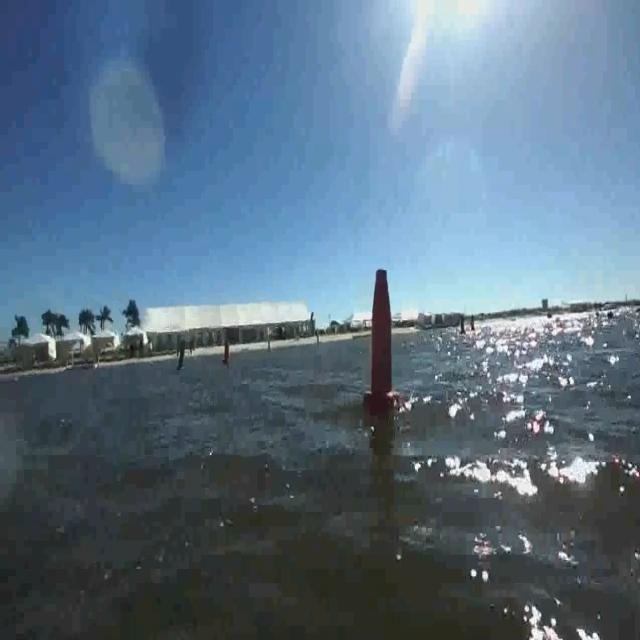green-column-buoy: (458, 311, 468, 336)
red-column-buoy: (364, 264, 398, 412), (222, 342, 231, 365), (470, 315, 479, 336)
